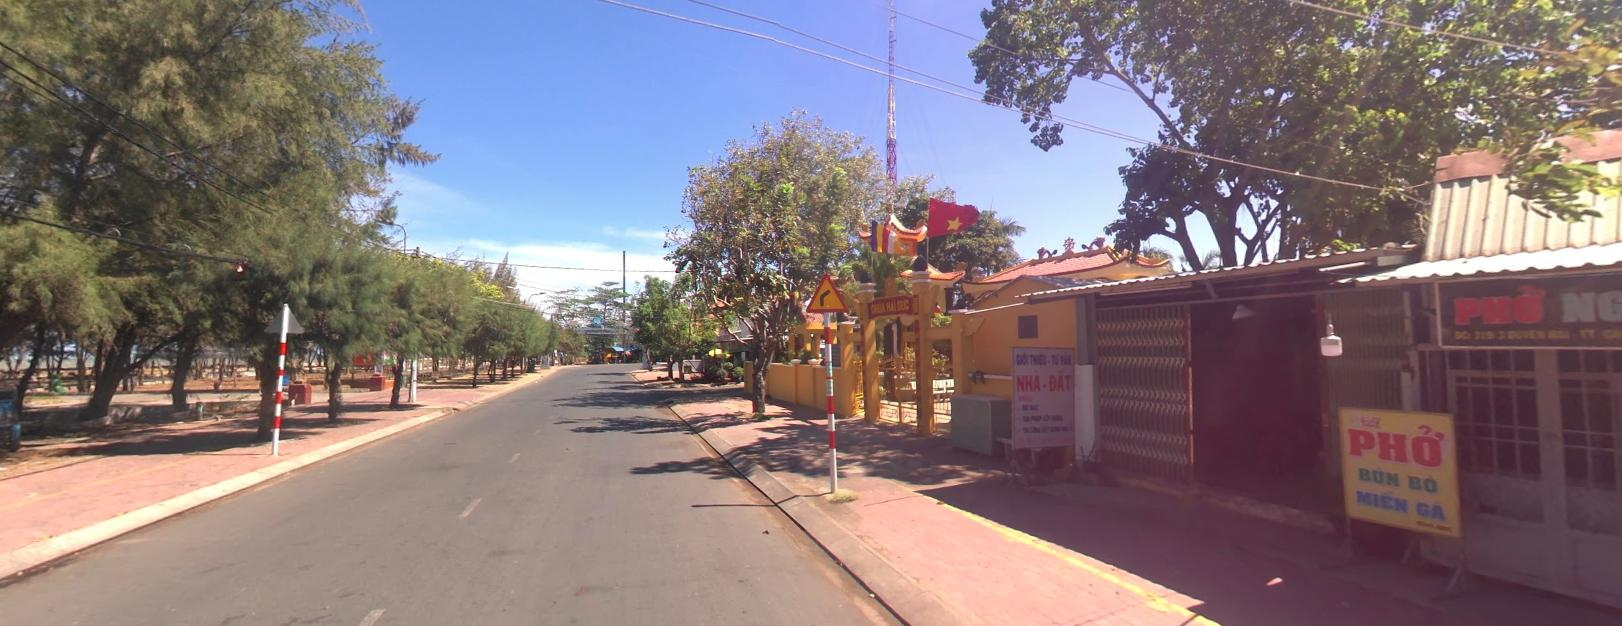Nguy hiem: (804, 272, 848, 311), (804, 271, 846, 311), (807, 272, 848, 310), (806, 273, 845, 310)
